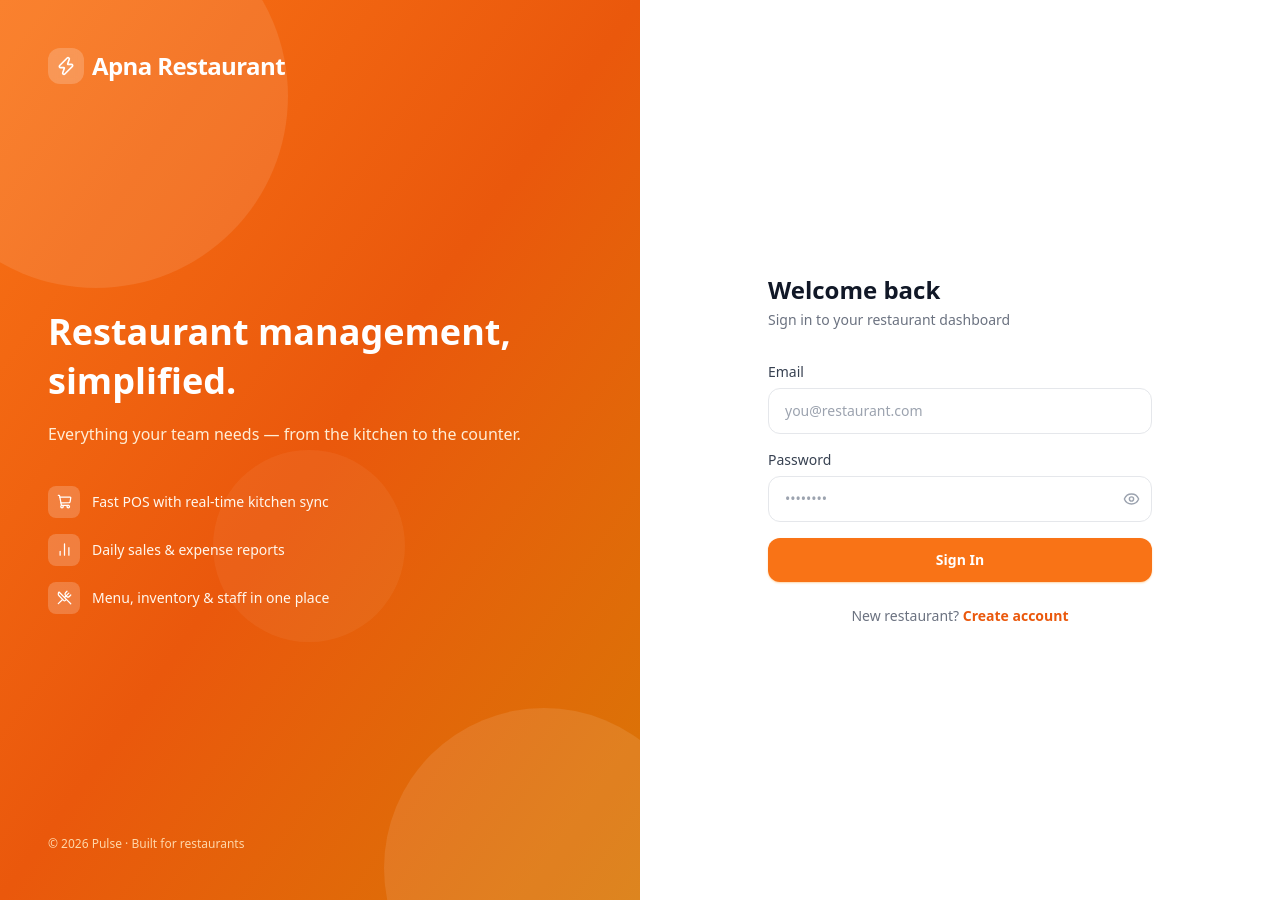
Test: Login page › shows validation error when submitting empty form
This screenshot has width=1280, height=900.
Click the button "Sign In": coordinates (960, 560) [768,538,1152,582]
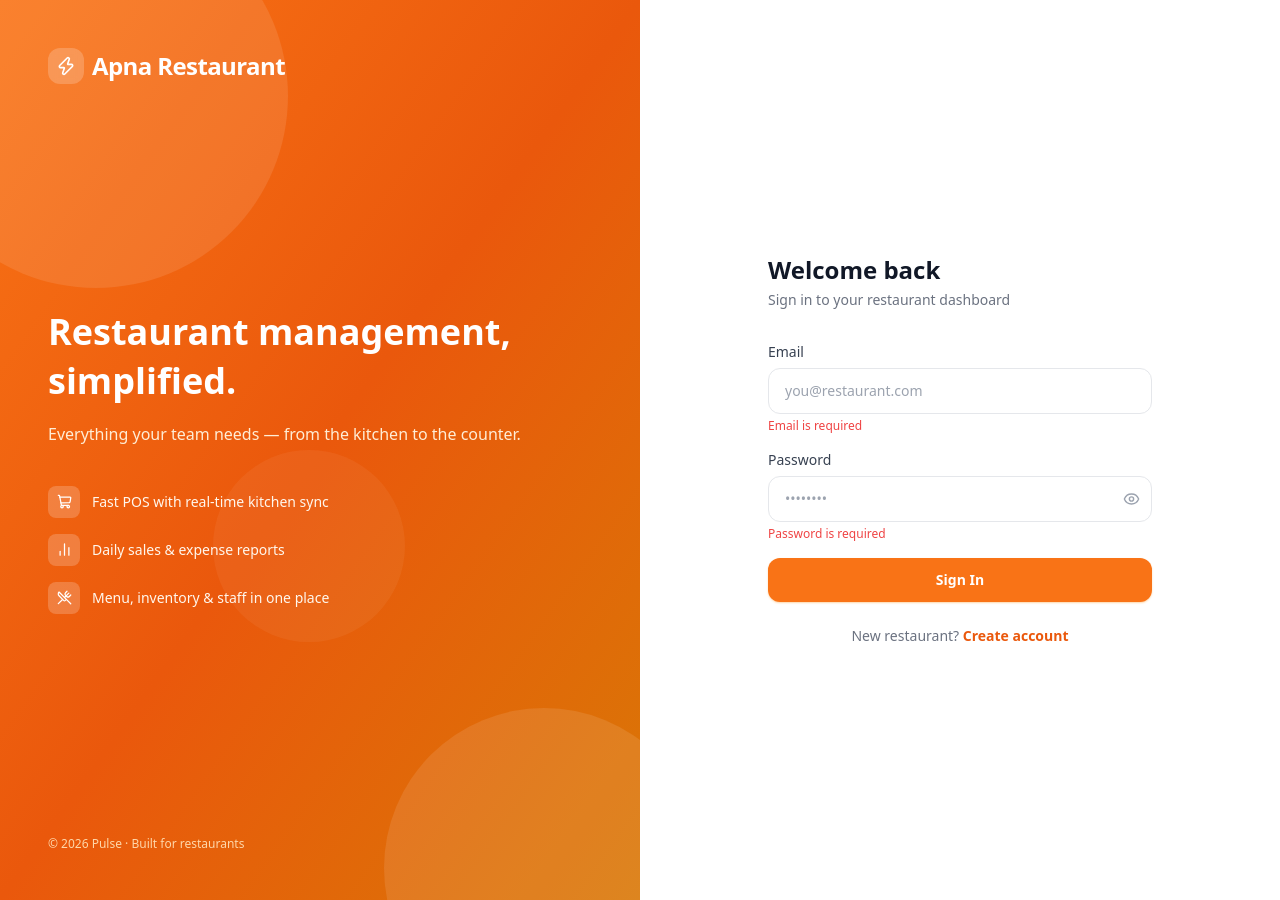
Check: the text "Email is required" is shown, box [768,417,862,434]
